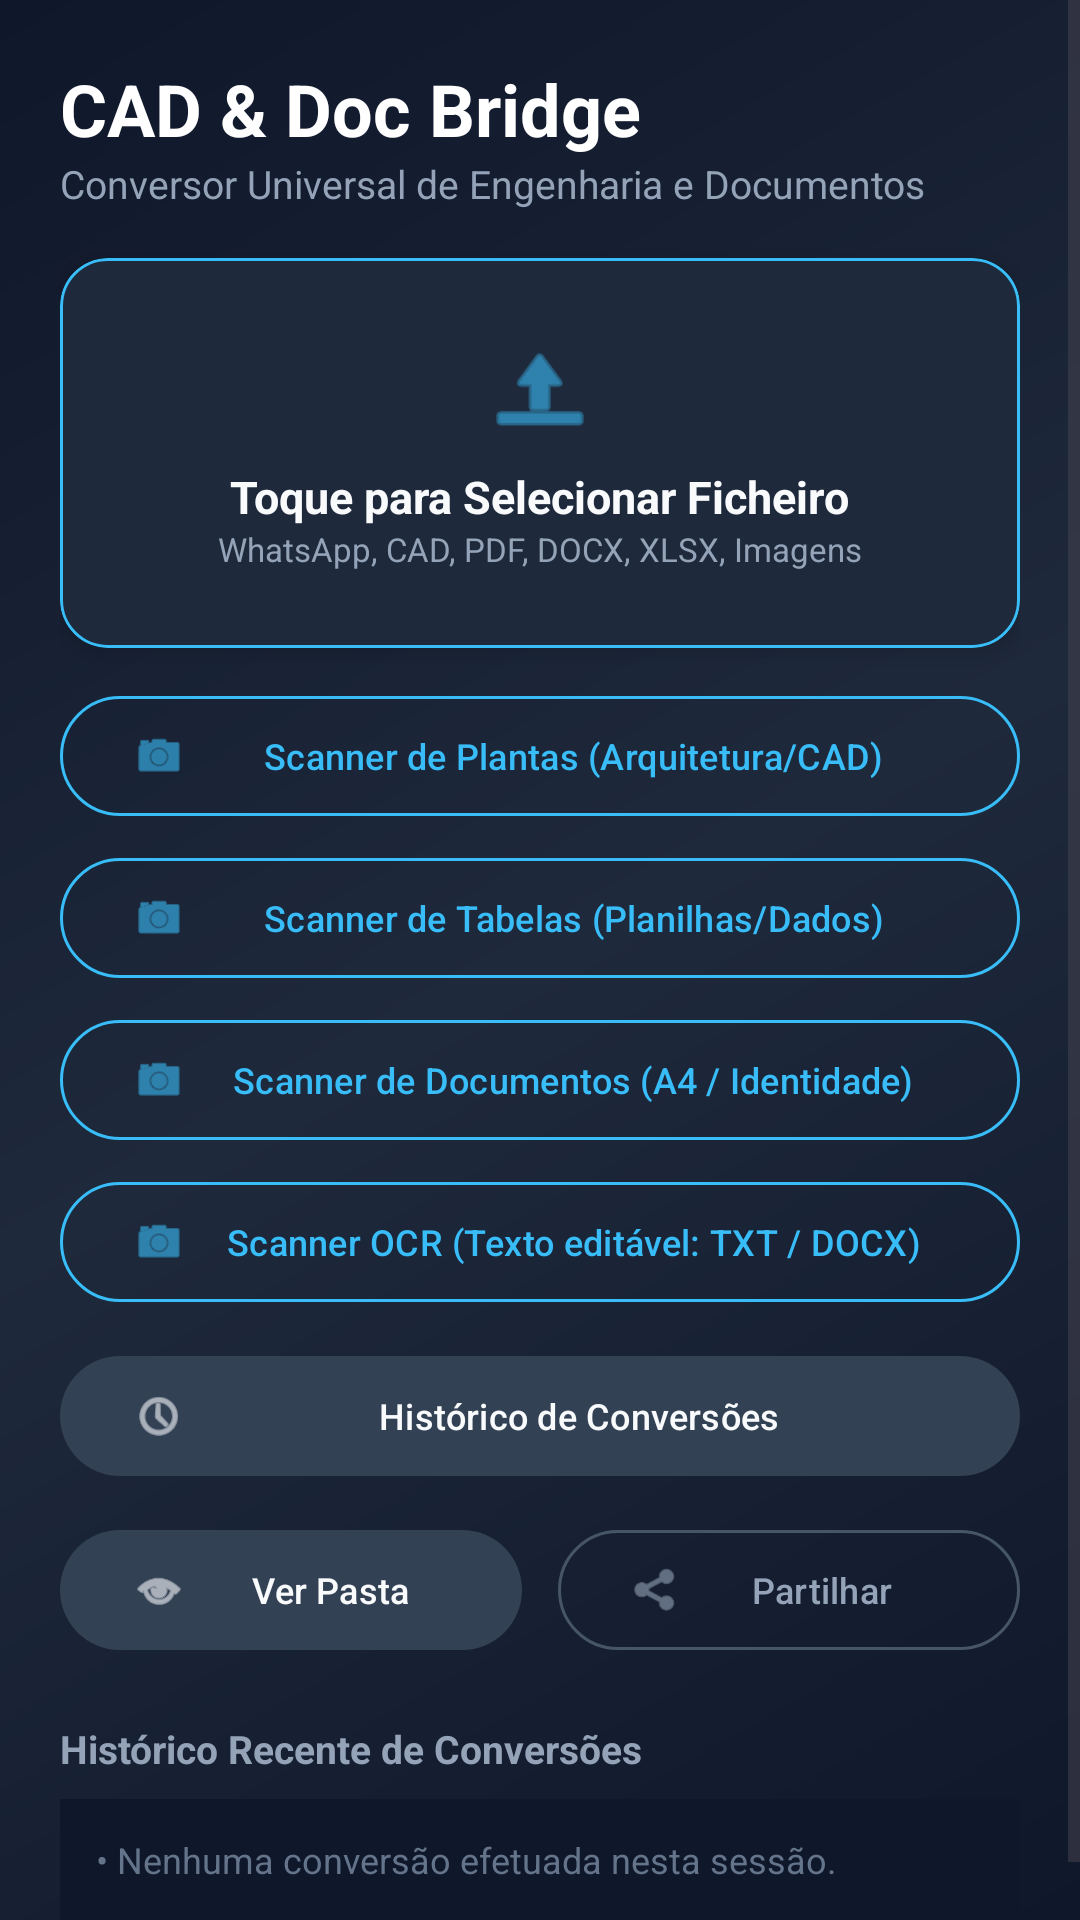

Named icons in this screenshot (1080px x 1920px) and their bounding boxes, (x1, y1, x2, y2):
upload: (496, 353, 584, 426)
